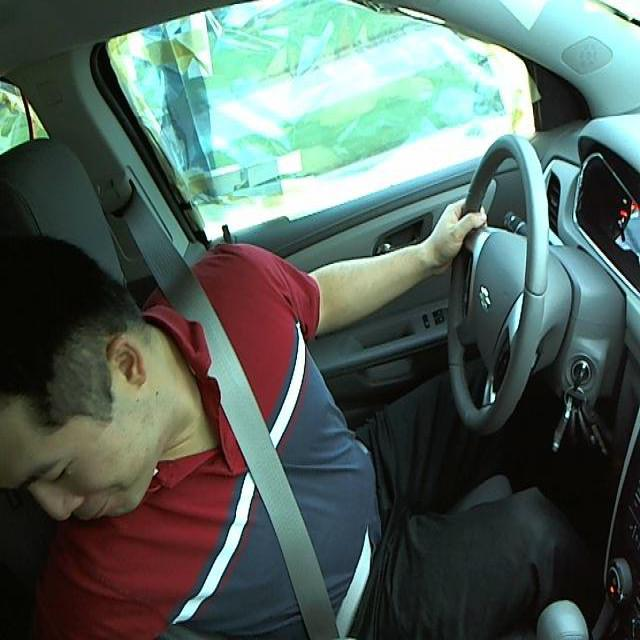seatbelt: (174, 326, 391, 634)
